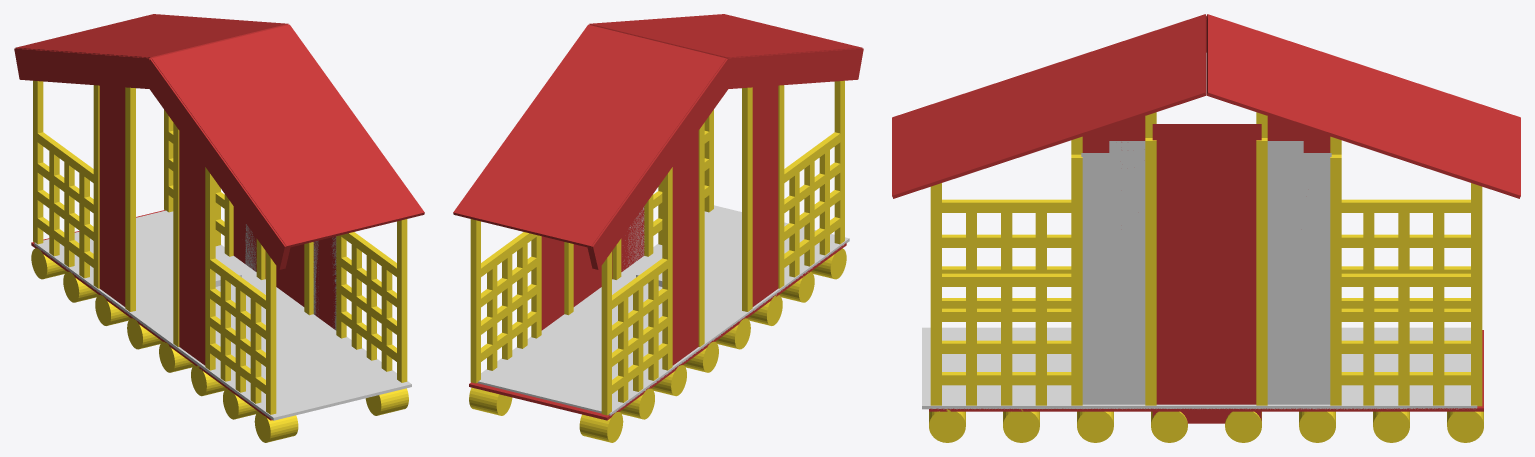
File: palanquin.fbx
3 renders of one model, left to right at view 1: azimuth 30°, elevation 25°; view 2: azimuth 150°, elevation 25°; view 3: azimuth 270°, elevation 25°, orthographic. The views are drawn at different scales.
Visible parts, largest first — view 1: Cube.007, Cube.003, Cube, Plane.001, Cube.006, Cylinder.001, Plane.002, Plane, Cylinder.032, Cube.002; view 2: Cube.007, Cube.003, Cube, Plane.001, Cube.006, Cylinder.001, Plane.002, Cube.002, Cylinder.032, Plane; view 3: Cube.007, Cube.006, Plane, Plane.002, Cube.003, Cube, Cylinder.032, Plane.001, Cube.002.
Part boxes in pixels (x1,y1,x2,y2): Cube.007: [14, 14, 424, 269]; Cube.003: [33, 80, 276, 414]; Cube: [34, 210, 411, 420]; Plane.001: [99, 85, 205, 365]; Cube.006: [164, 109, 407, 382]; Cylinder.001: [31, 248, 298, 442]; Plane.002: [233, 206, 336, 329]; Plane: [245, 224, 336, 330]; Cylinder.032: [365, 388, 408, 415]; Cube.002: [31, 210, 272, 420]; Cube.007: [453, 14, 863, 269]; Cube.003: [601, 80, 844, 415]; Cube: [477, 205, 849, 415]; Plane.001: [672, 85, 778, 365]; Cube.006: [470, 109, 713, 383]; Cylinder.001: [579, 248, 846, 442]; Plane.002: [541, 207, 644, 330]; Cube.002: [469, 243, 846, 420]; Cylinder.032: [469, 387, 512, 415]; Plane: [623, 207, 644, 269]; Cube.007: [892, 14, 1520, 198]; Cube.006: [930, 138, 1482, 406]; Plane: [1081, 141, 1331, 404]; Plane.002: [1121, 124, 1261, 423]; Cube.003: [942, 112, 1470, 308]; Cube: [922, 327, 1477, 409]; Cylinder.032: [929, 409, 1483, 442]; Plane.001: [1082, 116, 1330, 152]; Cube.002: [929, 330, 1483, 411].
Bounding box in the file's own units: 1011 × 2089 × 3398.
